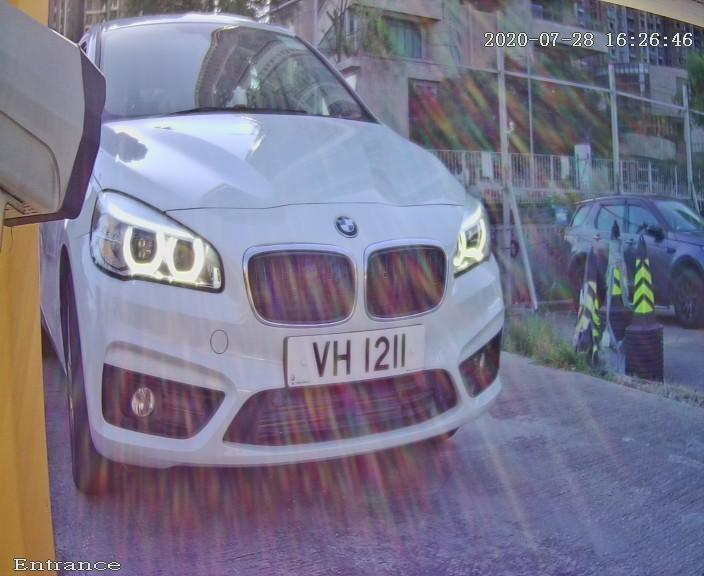privatecar: (4, 16, 626, 528)
